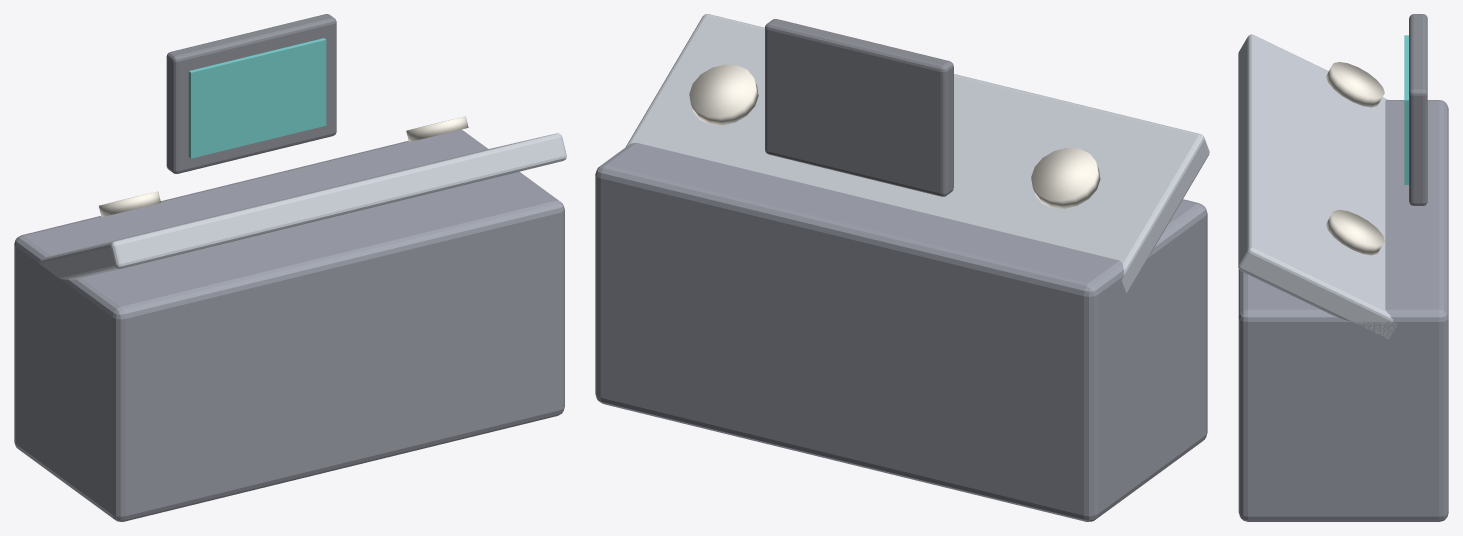
The model's file is fx_console.glb.
3 renders of one model, left to right at view 1: azimuth 30°, elevation 25°; view 2: azimuth 150°, elevation 25°; view 3: azimuth 270°, elevation 25°, orthographic. The views are drawn at different scales.
Visible parts, largest first — view 1: fx_console; view 2: fx_console; view 3: fx_console.
Part boxes in pixels (<box>): fx_console: <box>14,14,566,521</box>; fx_console: <box>595,14,1209,521</box>; fx_console: <box>1238,14,1448,521</box>.
Bounding box in the file's own units: 2.2 × 1.73 × 0.9022.
